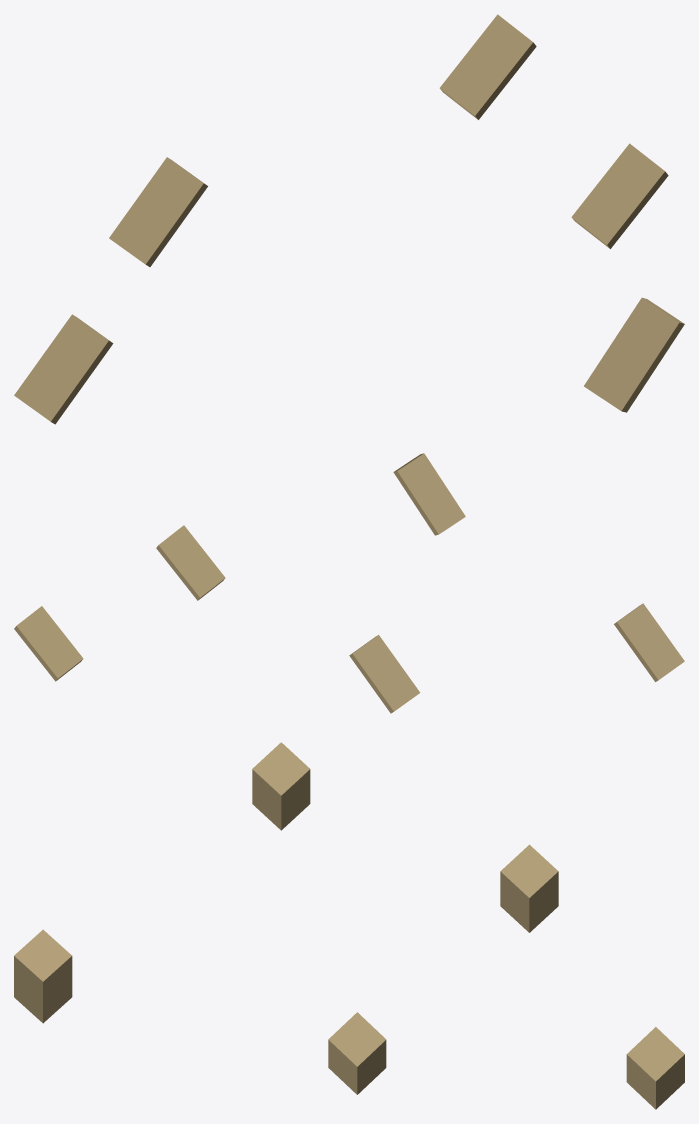
File: crop_lentil_dormant.glb
3 renders of one model, top to bottom at view 1: azimuth 30°, elevation 25°; view 2: azimuth 150°, elevation 25°; view 3: azimuth 270°, elevation 25°, orthographic. The views are drawn at different scales.
Parts seen in each view (by area): view 1: crop_lentil_dormant; view 2: crop_lentil_dormant; view 3: crop_lentil_dormant.
Part boxes in pixels (x1,y1,x2,y2): crop_lentil_dormant: [14, 14, 684, 424]; crop_lentil_dormant: [14, 453, 684, 713]; crop_lentil_dormant: [14, 742, 684, 1109].
Size of the model in its own units: 0.3138 by 0.0468 by 0.2765.
